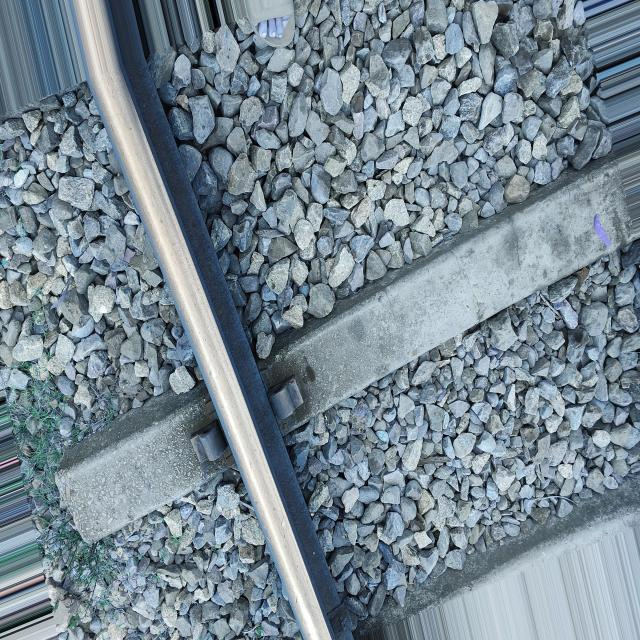Missing Fastener: (268, 376, 303, 420), (191, 420, 227, 461)
